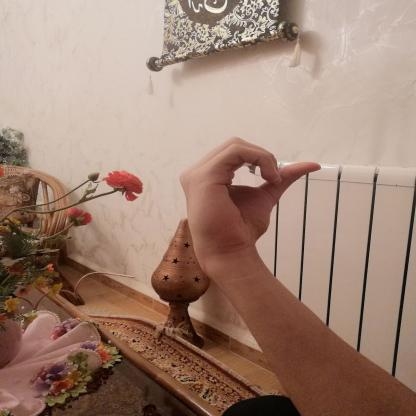WAW: (168, 128, 334, 266)
